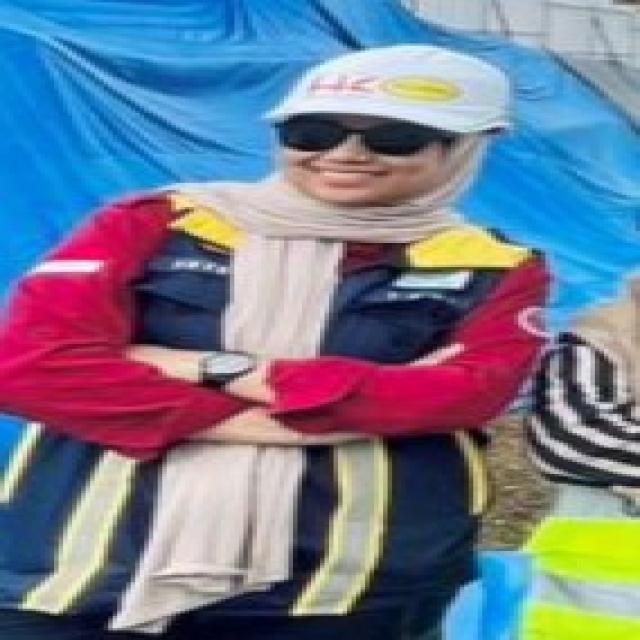safetyhelmet: (262, 40, 529, 201)
